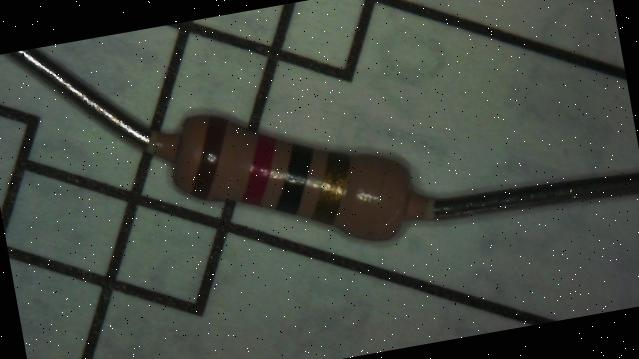black: (266, 140, 324, 215)
brown: (178, 114, 238, 200)
gold: (303, 148, 360, 226)
red: (232, 132, 286, 207)
resistor: (140, 52, 442, 293)
